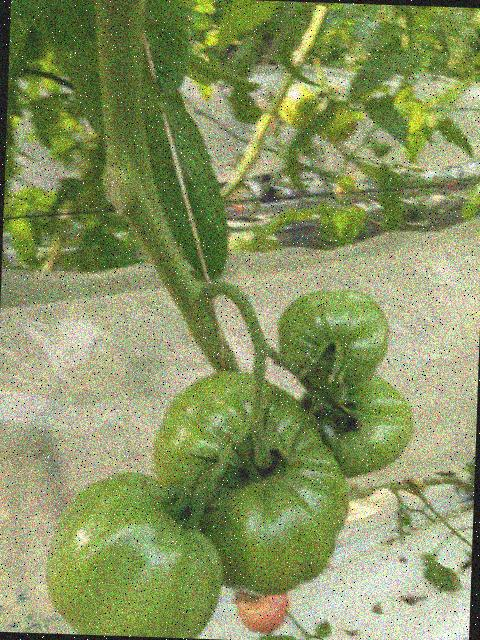b_green: (148, 369, 355, 600), (42, 468, 227, 640), (296, 370, 416, 481), (277, 287, 391, 391)
b_half_ripened: (237, 591, 289, 634)
